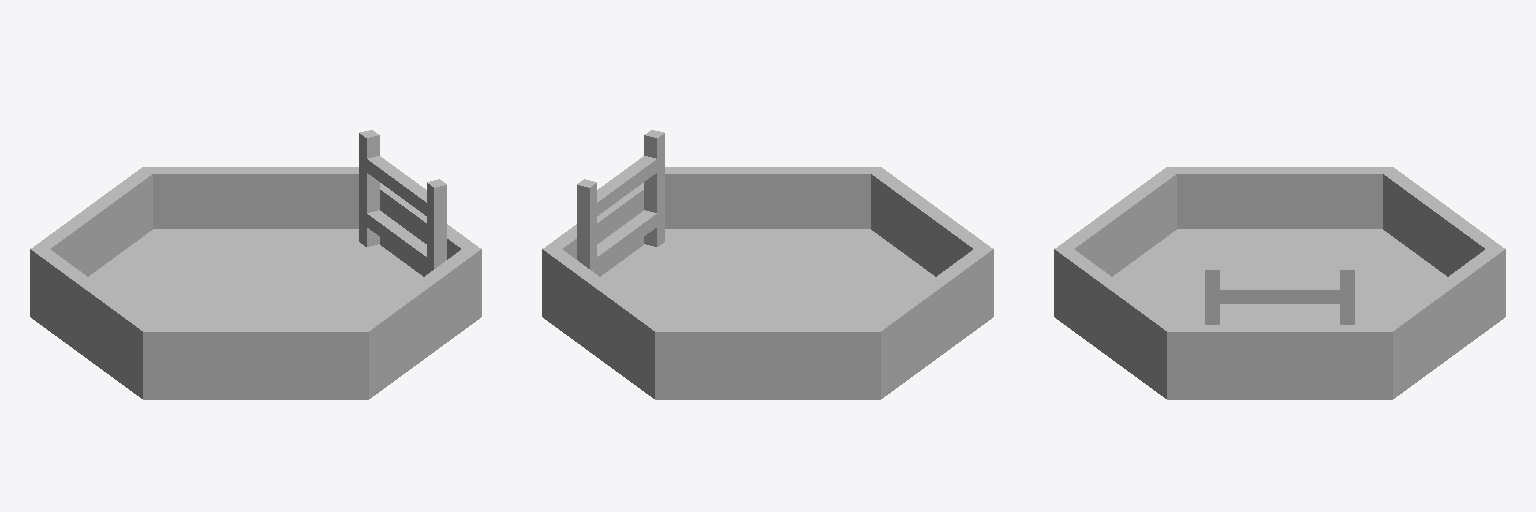
Rendered from exit.obj.
The picture shows the model from 3 angles: view 1: azimuth 30°, elevation 25°; view 2: azimuth 150°, elevation 25°; view 3: azimuth 270°, elevation 25°; orthographic projection.
Visible parts, largest first — view 1: Cube.003_Cube.004; view 2: Cube.003_Cube.004; view 3: Cube.003_Cube.004.
Boxes of the visible parts, <box> form: Cube.003_Cube.004: <box>30,130,481,399</box>; Cube.003_Cube.004: <box>542,130,993,399</box>; Cube.003_Cube.004: <box>1054,167,1505,399</box>.
Size of the model in its own units: 5.2 by 1.8 by 6.